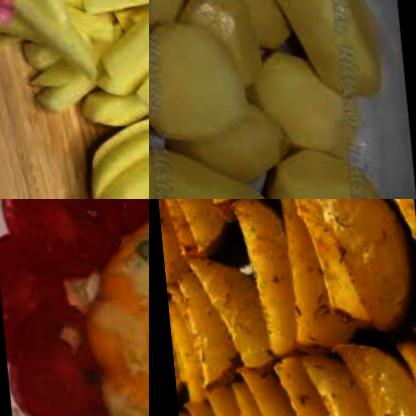potato: (149, 199, 416, 416), (0, 0, 149, 156), (248, 58, 362, 174), (149, 17, 249, 144), (156, 93, 291, 183), (271, 0, 388, 87), (149, 147, 314, 199), (59, 105, 149, 199), (190, 0, 283, 75), (270, 141, 381, 199), (149, 0, 198, 33)
squash-patisson: (93, 199, 149, 416)
tomato: (0, 231, 114, 416), (0, 199, 122, 282)
